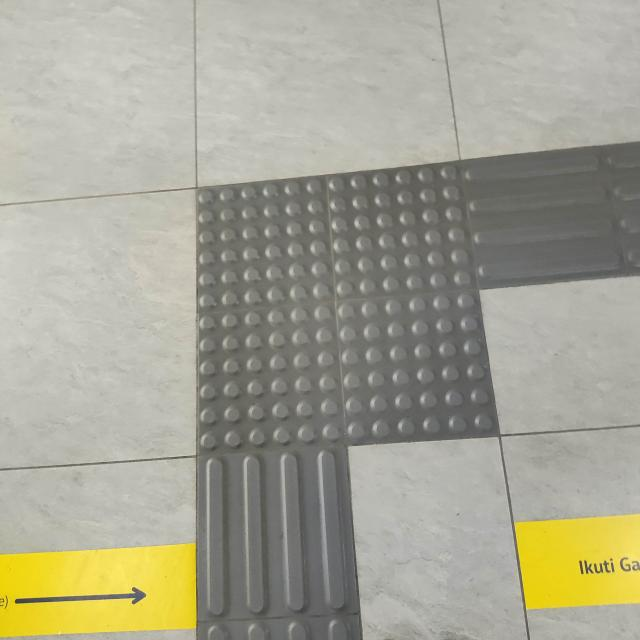kanan: (110, 136, 640, 508)
